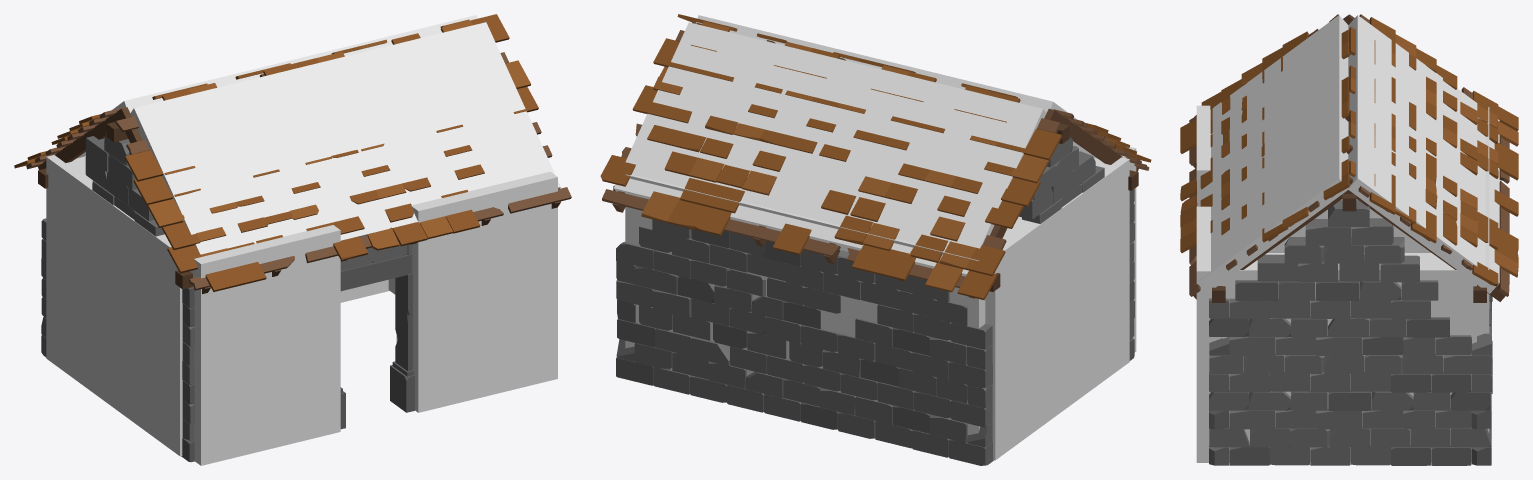
File: stone_house_broken_1.glb
3 renders of one model, left to right at view 1: azimuth 30°, elevation 25°; view 2: azimuth 150°, elevation 25°; view 3: azimuth 270°, elevation 25°, orthographic. The views are drawn at different scales.
Parts seen in each view (by area): view 1: Cube.005, House_01_LOD0, Cube.003, Cube.004, Cube, Cube.006, Cube.002; view 2: House_01_LOD0, Cube.006, Cube, Cube.002, Cube.005, Cube.003; view 3: House_01_LOD0, Cube.005, Cube.006, Cube.001, Cube.004, Cube.003, Cube.002, Cube.
Part boxes in pixels (x1,y1,x2,y2): Cube.005: [130, 22, 560, 254]; House_01_LOD0: [14, 14, 571, 462]; Cube.003: [190, 225, 340, 465]; Cube.004: [396, 171, 557, 412]; Cube: [46, 155, 182, 456]; Cube.006: [76, 15, 477, 158]; Cube.002: [53, 153, 389, 302]; House_01_LOD0: [600, 14, 1151, 465]; Cube.006: [614, 22, 1046, 276]; Cube: [985, 157, 1129, 460]; Cube.002: [625, 174, 985, 438]; Cube.005: [695, 15, 1097, 158]; Cube.003: [1121, 147, 1136, 352]; House_01_LOD0: [1180, 14, 1518, 465]; Cube.005: [1197, 15, 1348, 293]; Cube.006: [1348, 15, 1499, 293]; Cube.001: [1223, 253, 1476, 461]; Cube.004: [1196, 206, 1229, 462]; Cube.003: [1196, 105, 1210, 180]; Cube.002: [1477, 107, 1489, 433]; Cube: [1267, 199, 1431, 252].
Size of the model in its own units: 6.91 by 5.06 by 5.4.
Materials: 2 (2 with a texture image).
